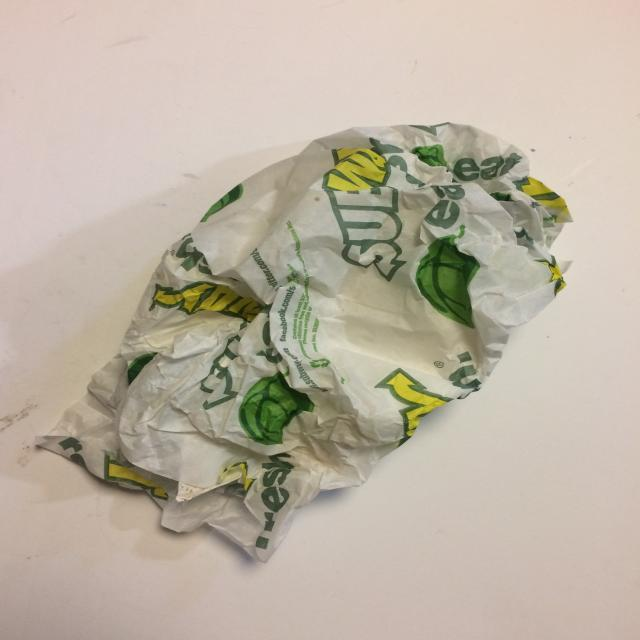trash: (33, 121, 573, 564)
